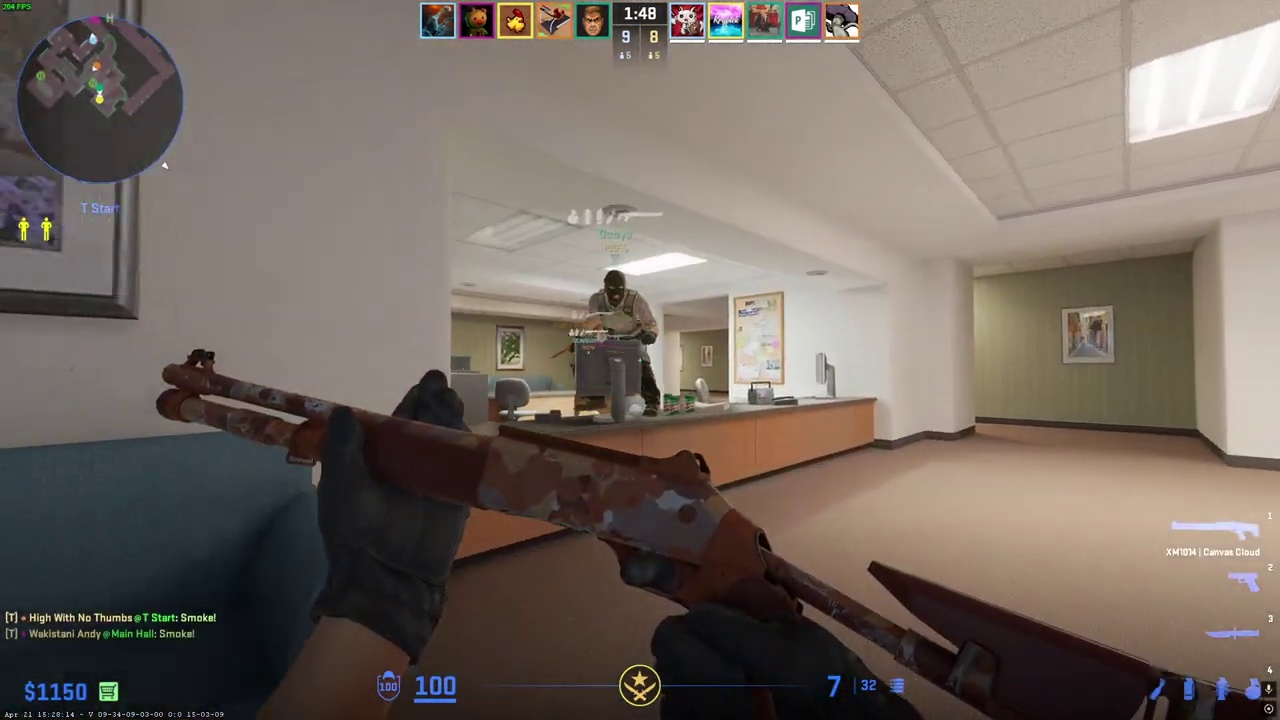Terrorist: (573, 269, 663, 420)
